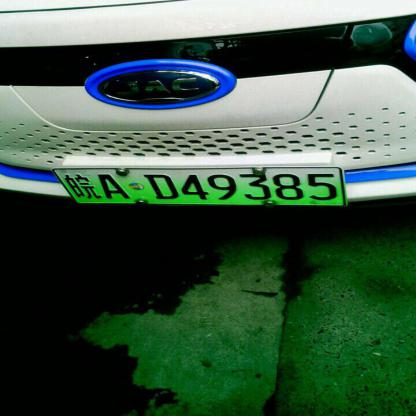lp: (55, 167, 77, 206)
